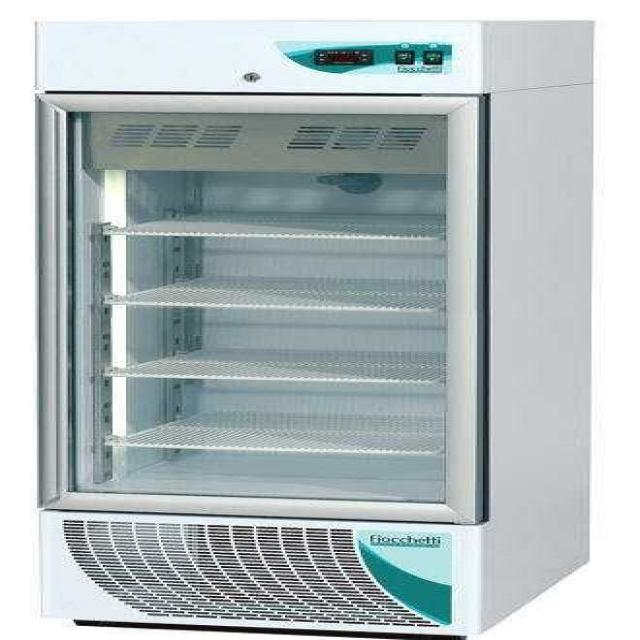refrigerator: (31, 19, 490, 639)
